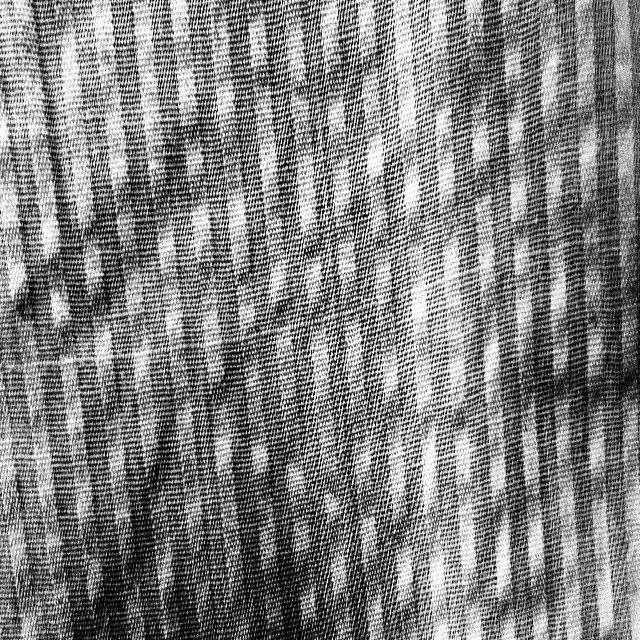Foreign_yarn: (2, 222, 616, 390)
